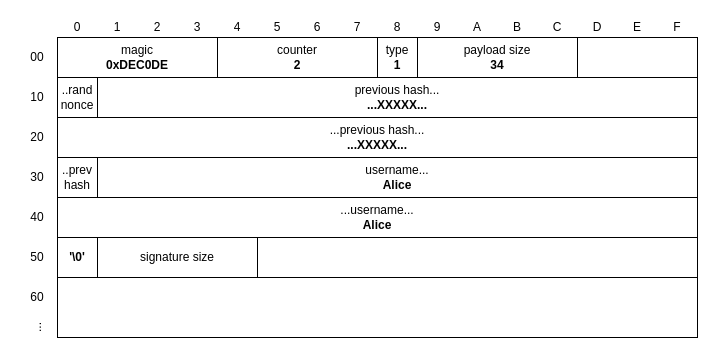
The diagram is 715 pixels wide and 355 high, and some of its shapes have lost their labels. Each missing label, with the centre of its shape:
...message signature...: (x=377, y=307)
message signature...: (x=477, y=257)
random nonce... N S 1: (x=637, y=57)
